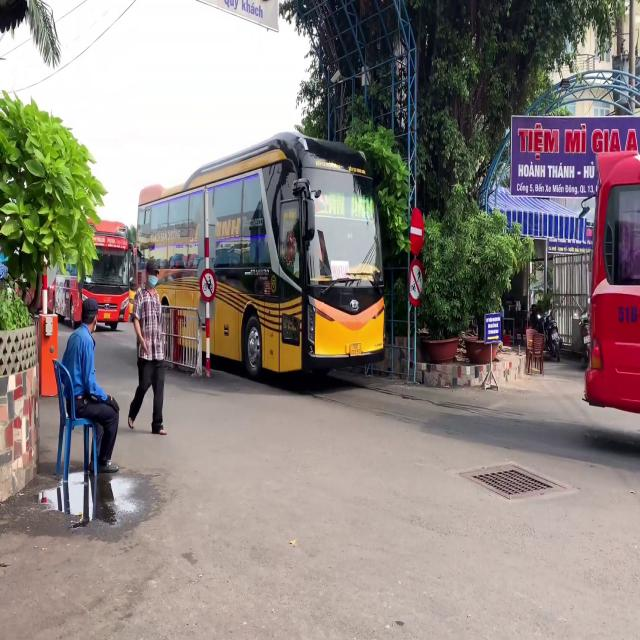bien_vang: (350, 343, 361, 357)
